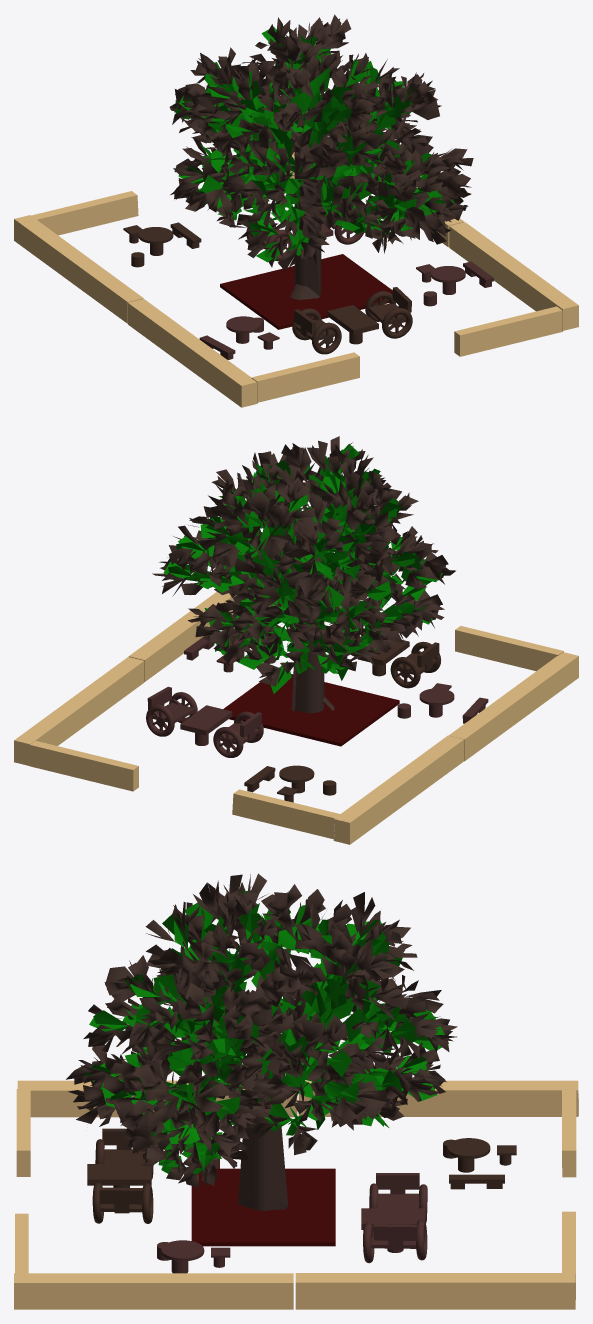
Rendered from banggarFIN.glb.
The picture shows the model from 3 angles, top to bottom: view 1: azimuth 30°, elevation 25°; view 2: azimuth 150°, elevation 25°; view 3: azimuth 270°, elevation 25°; orthographic projection. The views are drawn at different scales.
Visible parts, largest first — view 1: TreeGen, Cube.055, Cube.009, Cube.059, Cube.018, Cube.054, Cube.046, Cube.020, Cylinder.012, Cylinder.020; view 2: TreeGen, Cube.055, Cube.009, Cube.058, Cube.020, Cube.052, Cube.059, Cube.018, Cube.046; view 3: TreeGen, Cube.055, Cube.058, Cube.059, Cube.009, Cube.020, Cube.018, Cube.052, Cube.054, Cylinder.020, Cylinder.012, Cube.041.
Boxes of the visible parts, x1,y1,x2,y2 form: TreeGen: [169, 14, 473, 299]; Cube.055: [14, 191, 359, 407]; Cube.009: [220, 254, 392, 329]; Cube.059: [449, 222, 578, 330]; Cube.018: [292, 287, 412, 354]; Cube.054: [454, 306, 562, 356]; Cube.046: [199, 316, 279, 359]; Cube.020: [246, 197, 364, 261]; Cylinder.012: [138, 227, 173, 243]; Cylinder.020: [431, 266, 465, 282]; TreeGen: [152, 436, 455, 713]; Cube.055: [232, 626, 578, 844]; Cube.009: [223, 674, 399, 746]; Cube.058: [14, 657, 144, 765]; Cube.020: [146, 686, 263, 757]; Cube.052: [30, 741, 138, 791]; Cube.059: [128, 592, 236, 681]; Cube.018: [324, 623, 440, 688]; Cube.046: [397, 683, 488, 719]; TreeGen: [66, 873, 457, 1210]; Cube.055: [16, 1080, 578, 1177]; Cube.058: [295, 1273, 575, 1309]; Cube.059: [14, 1273, 293, 1309]; Cube.009: [191, 1168, 335, 1246]; Cube.020: [361, 1173, 427, 1263]; Cube.018: [87, 1128, 153, 1223]; Cube.052: [562, 1211, 575, 1299]; Cube.054: [15, 1213, 28, 1273]; Cylinder.020: [161, 1240, 204, 1261]; Cylinder.012: [447, 1138, 490, 1158]; Cube.041: [449, 1174, 504, 1183].
Size of what is drawn, in the model's own units: 29.02 by 21.83 by 34.33.
29 materials, 2 textured.
